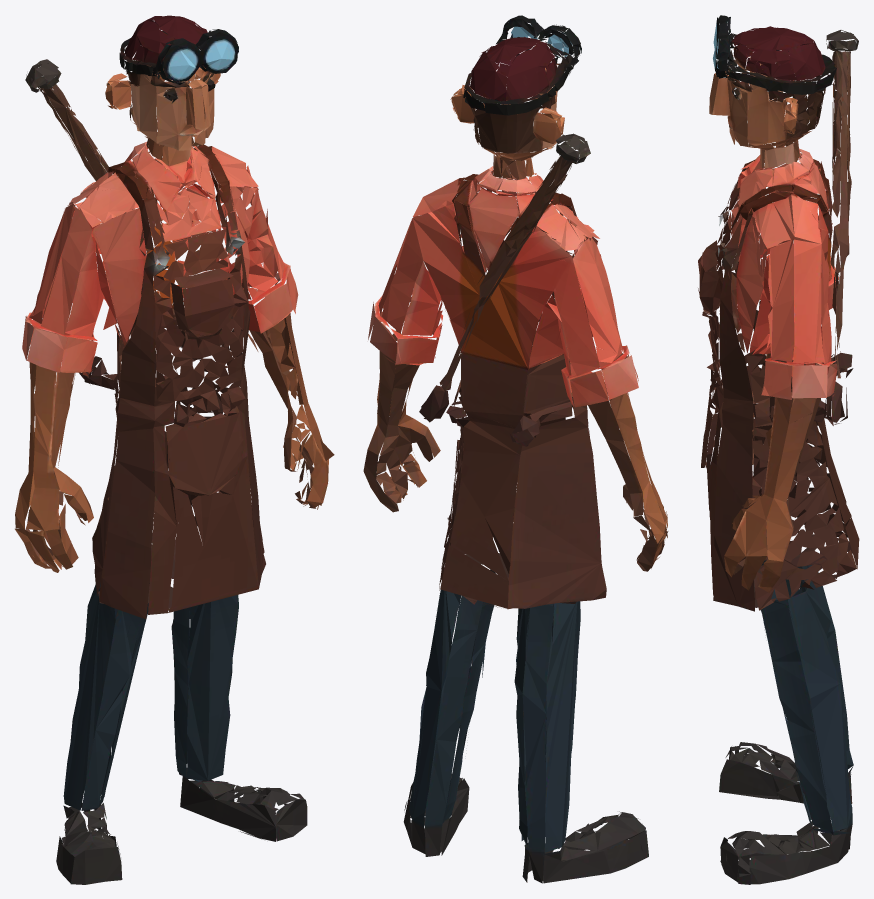
File: habitant.glb
3 views of the same model, side by side, from view 1: azimuth 30°, elevation 25°; view 2: azimuth 150°, elevation 25°; view 3: azimuth 270°, elevation 25° (orthographic). The views are drawn at different scales.
Visible parts, largest first — view 1: world; view 2: world; view 3: world.
Part boxes in pixels (<box>): world: <box>15,15,334,884</box>; world: <box>363,15,668,883</box>; world: <box>698,15,859,884</box>.
Bounding box in the file's own units: 0.3891 × 1 × 0.1838.
Materials: 1 (1 with a texture image).
